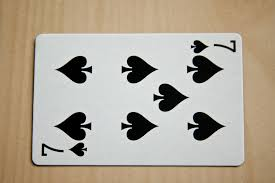seven of spades: (31, 32, 245, 165)
